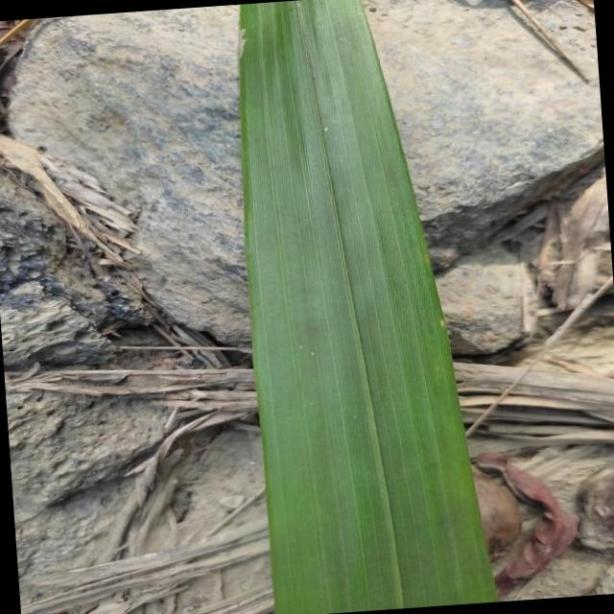Healthy: (242, 6, 500, 603)
